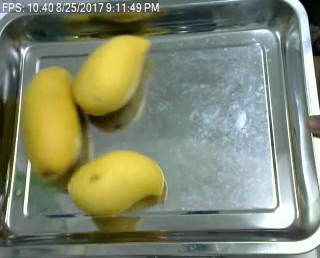Mango: (22, 63, 83, 177), (70, 34, 154, 116), (68, 147, 166, 217)
